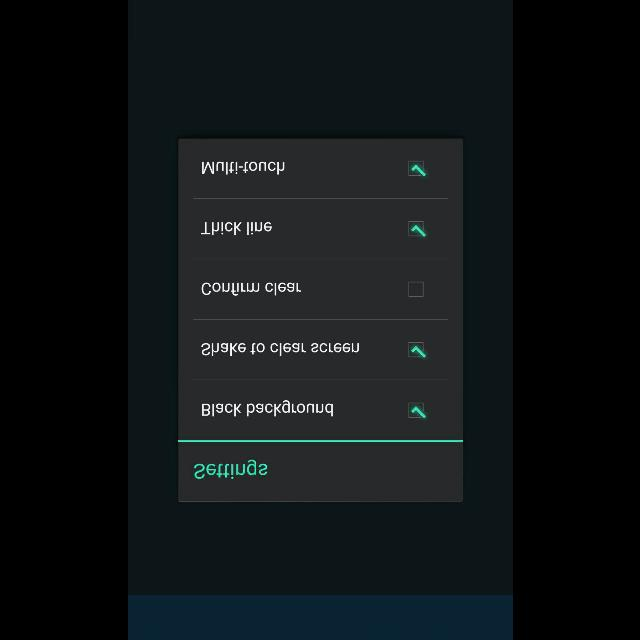checkbox: (407, 403, 425, 419), (408, 221, 426, 237), (407, 161, 425, 177), (408, 342, 424, 358), (408, 282, 422, 296)
panel: (178, 138, 462, 502)
text: (201, 342, 359, 356), (202, 400, 332, 416), (193, 459, 267, 478), (202, 283, 300, 295), (202, 162, 284, 174), (201, 222, 271, 234)
